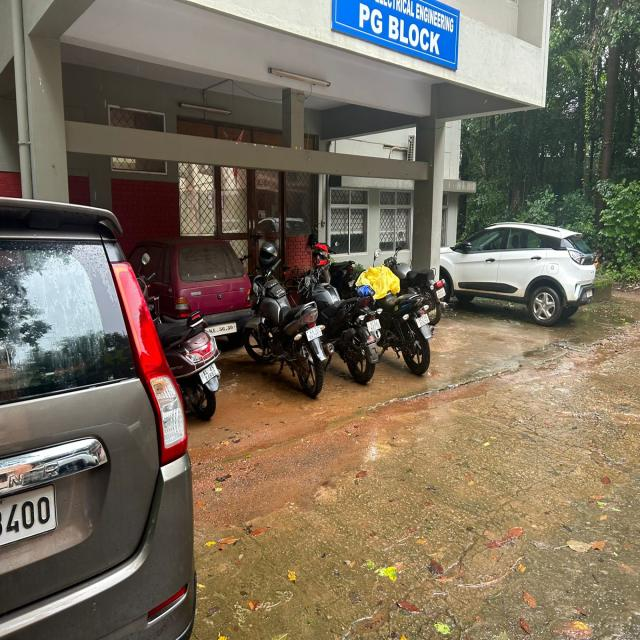car ahead at: (0, 210, 198, 639), (442, 214, 602, 339)
motorcycle ahead at: (231, 226, 323, 389), (303, 260, 388, 383), (361, 256, 440, 372)
